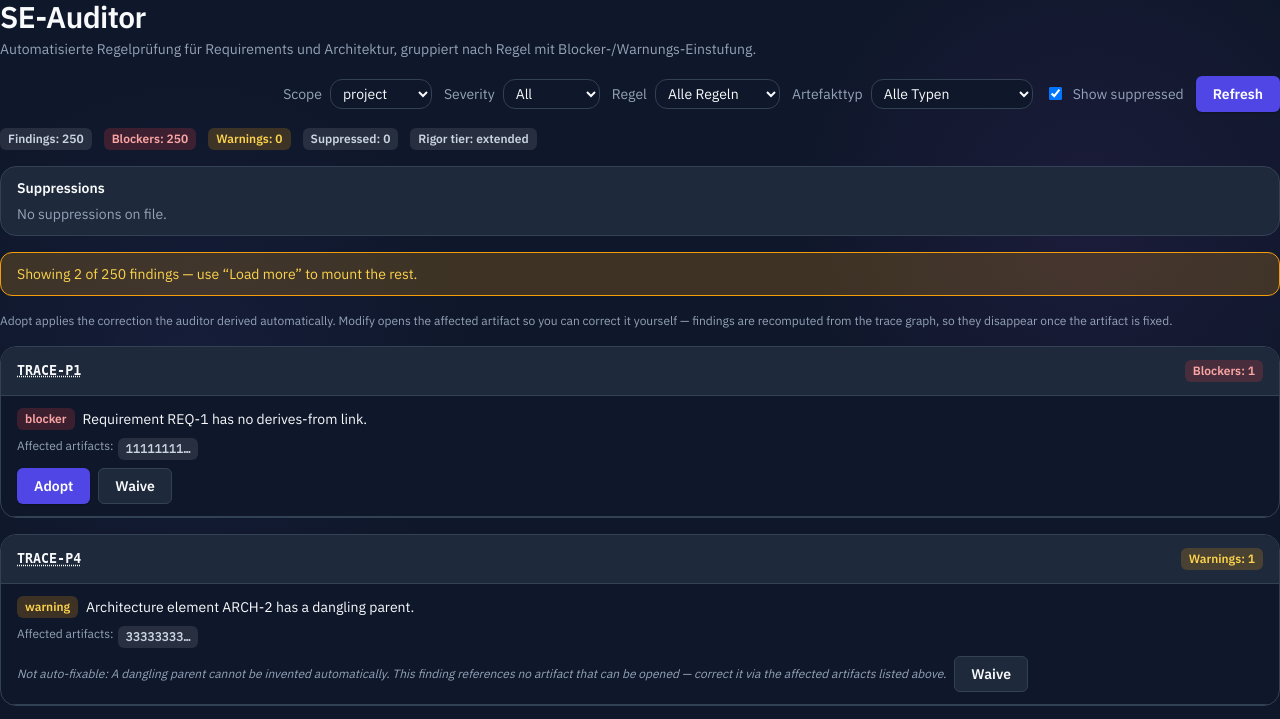
AuditDashboard — paged findings (#596) › applies a local adopt exactly once when Load more adopts a new snapshot (#1382)
Click the button with test id "audit-adopt-0" at (54, 486), box [17,468,90,504]
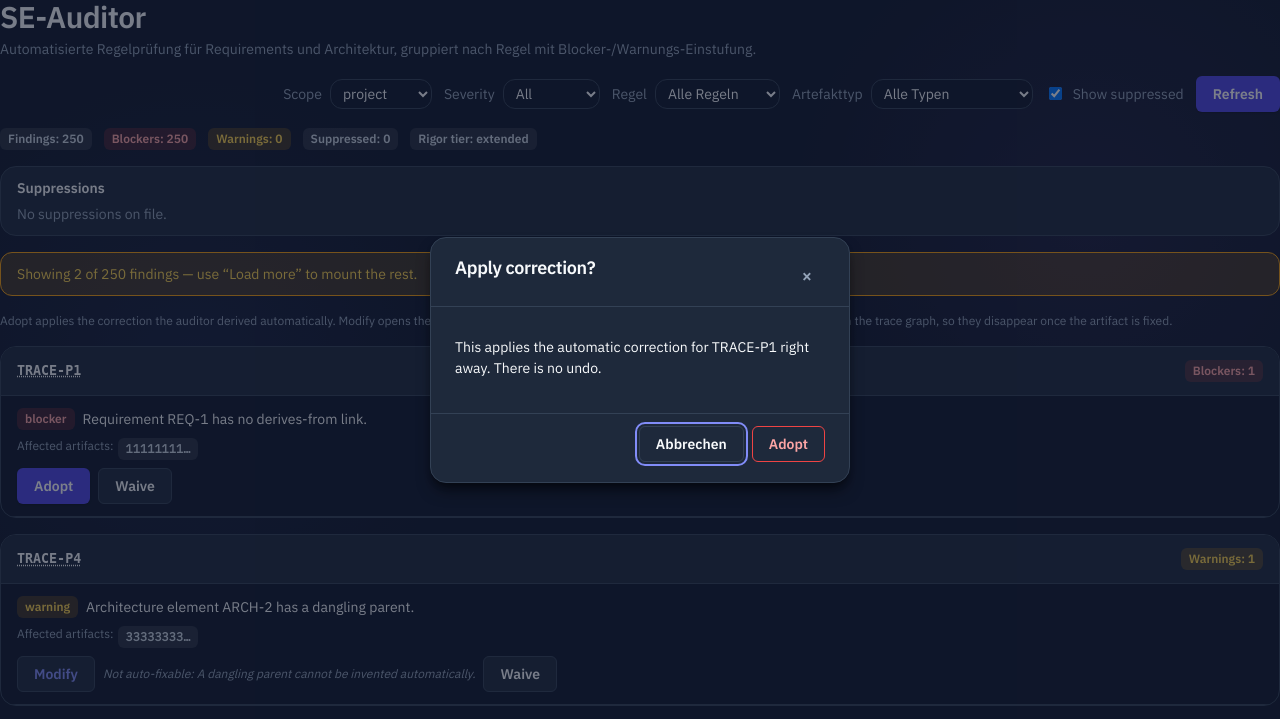
Click the button with test id "audit-adopt-confirm-confirm" at (788, 444), box [752,426,825,462]
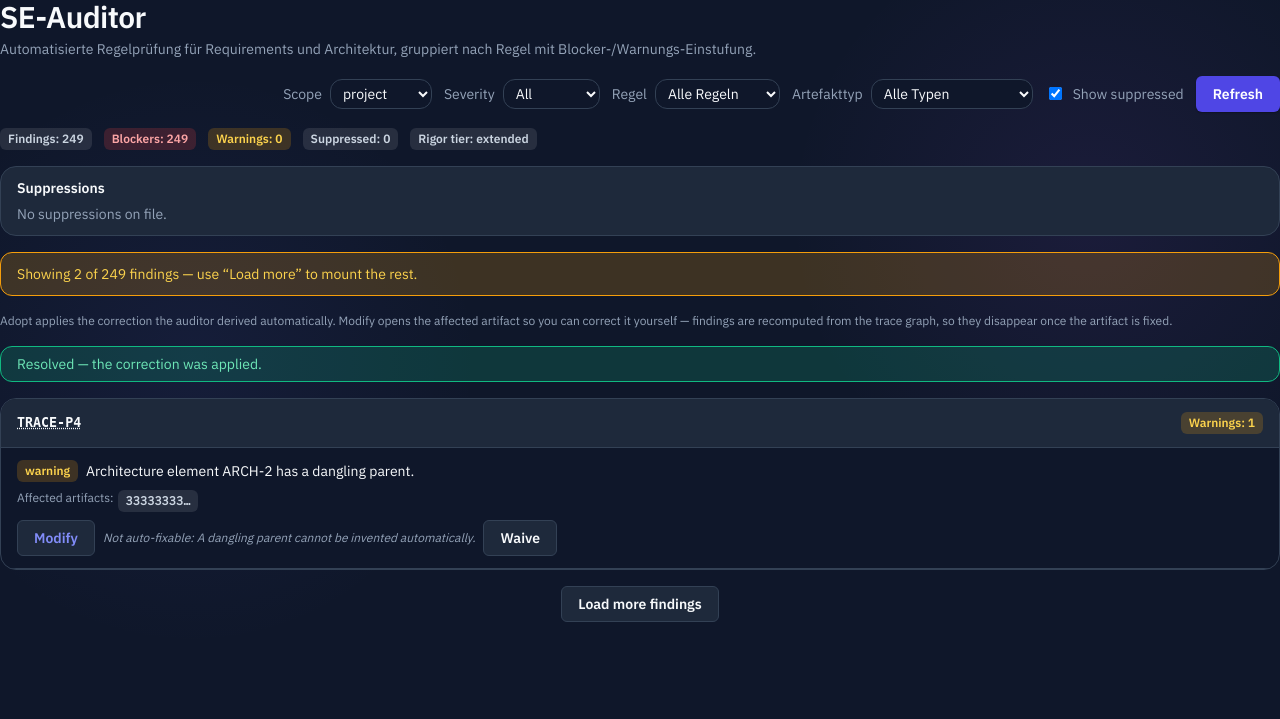
Check: the text with test id "audit-count-total" shows "249", box [62,131,84,146]
Click the button with test id "audit-load-more-btn" at (640, 604), box [561,586,719,622]
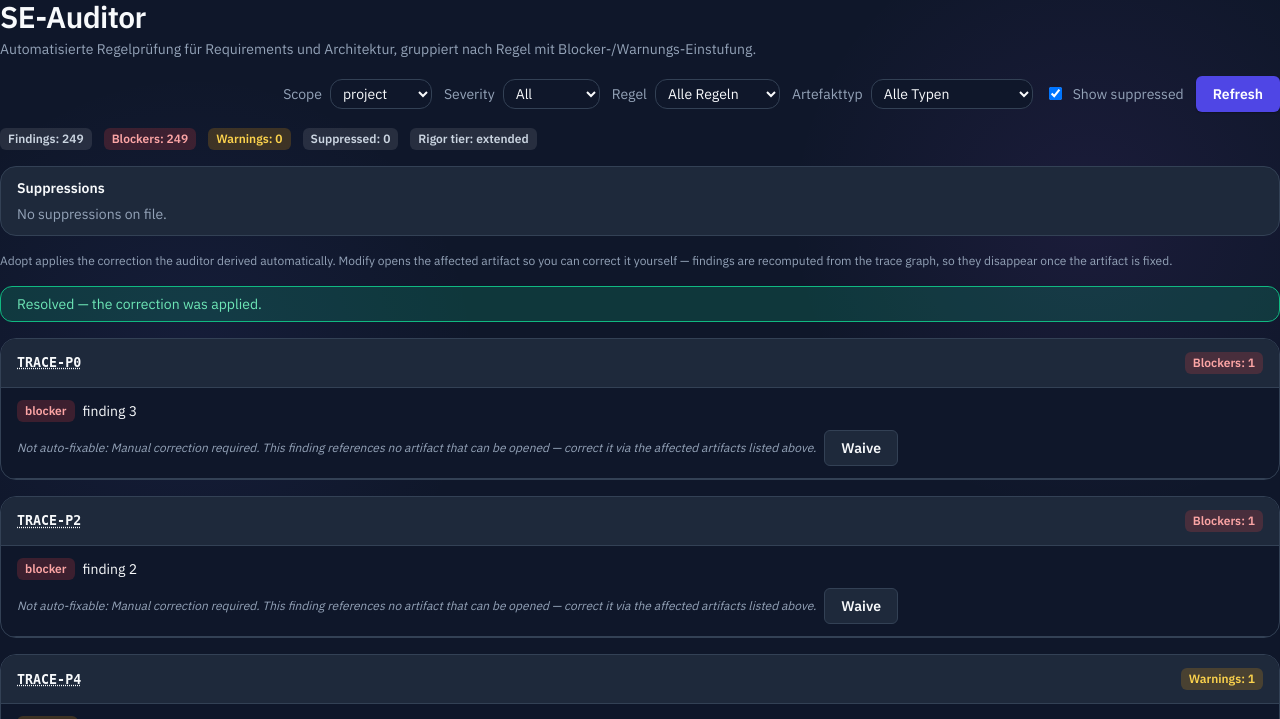
Check: the text with test id "audit-count-total" shows "249", box [62,131,84,146]
Check: the message with test id "audit-truncated-banner" is gone
